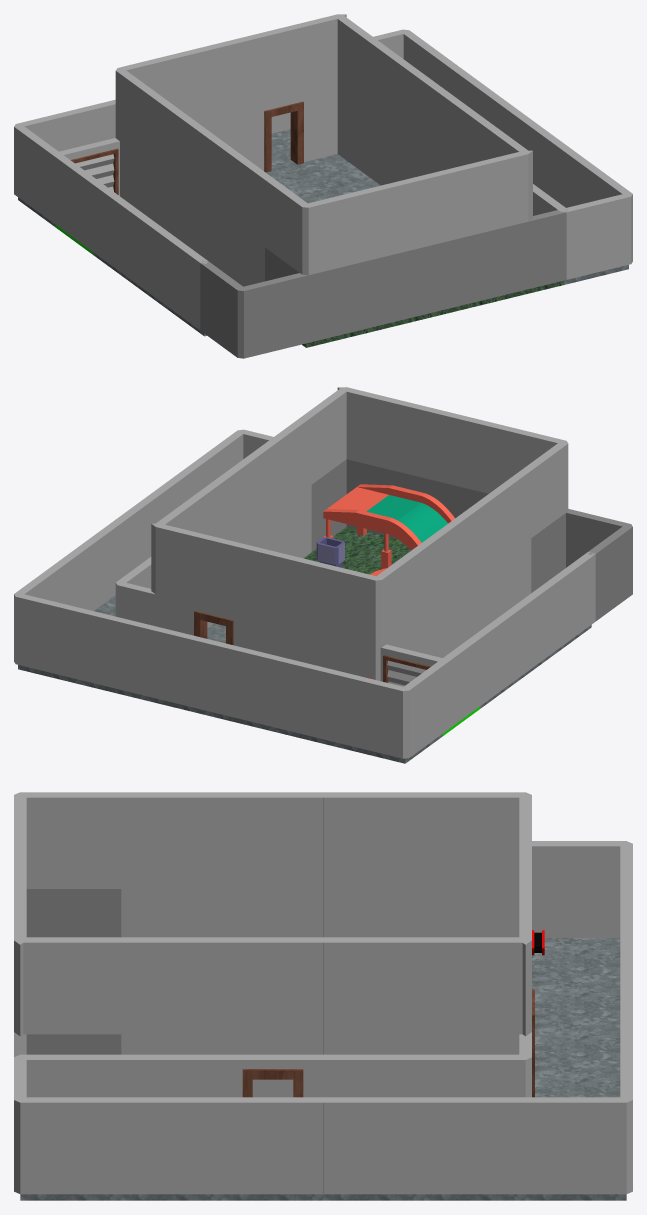
The model's file is Level_1_1_Locked.fbx.
3 views of the same model, one above another, from view 1: azimuth 30°, elevation 25°; view 2: azimuth 150°, elevation 25°; view 3: azimuth 270°, elevation 25° (orthographic). The views are drawn at different scales.
Visible parts, largest first — view 1: mergedBlocks; view 2: mergedBlocks; view 3: mergedBlocks.
Part boxes in pixels (<box>): mergedBlocks: <box>14,14,632,358</box>; mergedBlocks: <box>14,387,632,763</box>; mergedBlocks: <box>14,792,632,1200</box>.
Bounding box in the file's own units: 61.25 × 21 × 61.25.
16 materials, 4 textured.
